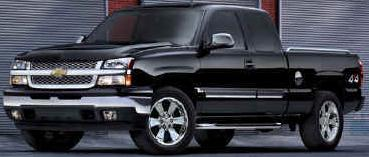front_view: (7, 56, 135, 128)
headlight: (93, 56, 136, 90)
side_glass: (201, 5, 278, 52)
